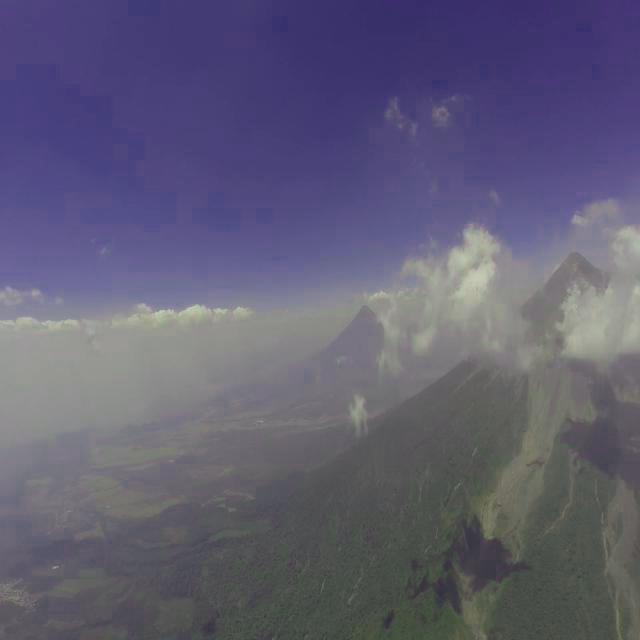Summit: (549, 248, 600, 277)
